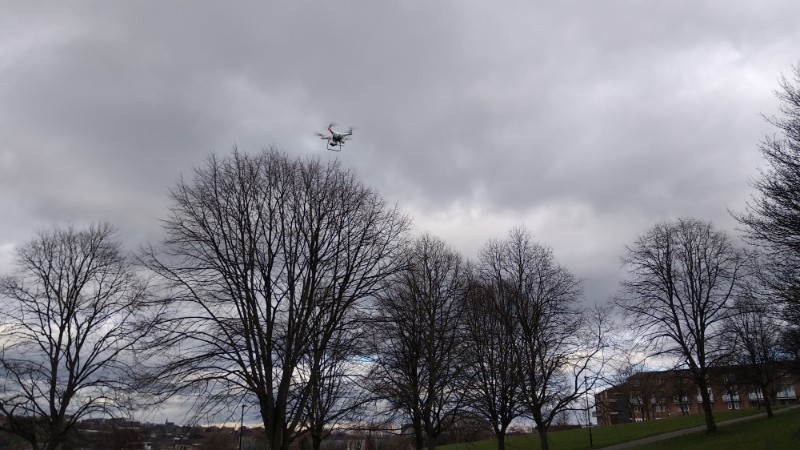drone: (316, 122, 359, 153)
